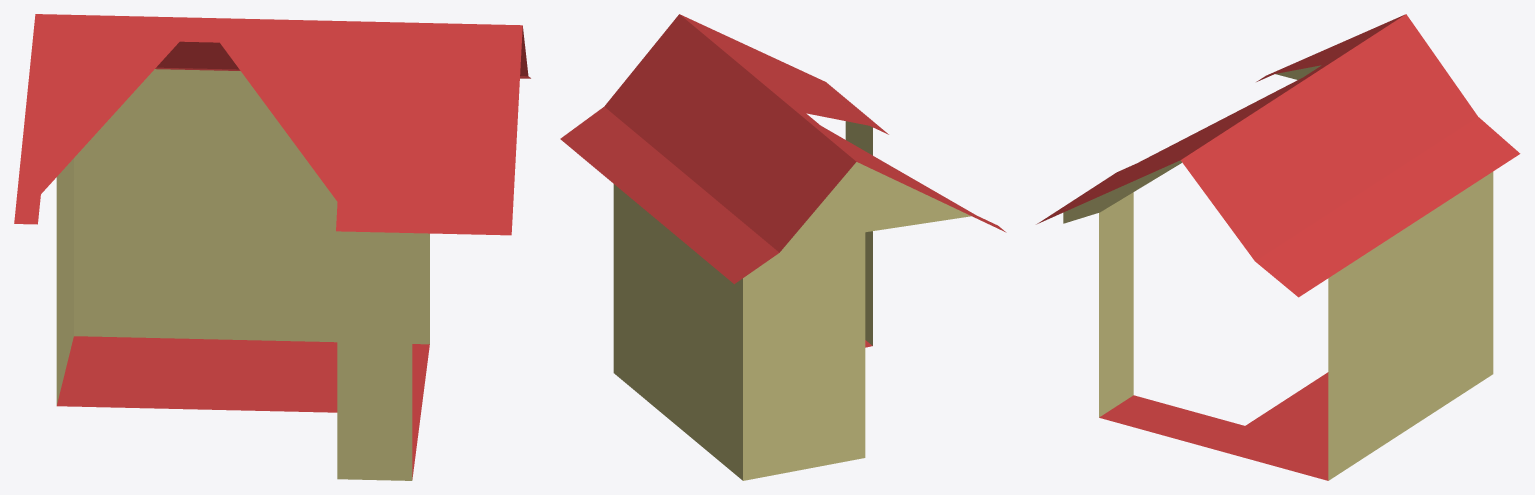
3 renders of one model, left to right at view 1: azimuth 30°, elevation 25°; view 2: azimuth 150°, elevation 25°; view 3: azimuth 270°, elevation 25°, orthographic. The views are drawn at different scales.
Size of the model in its own units: 19.58 by 18.1 by 13.3.
